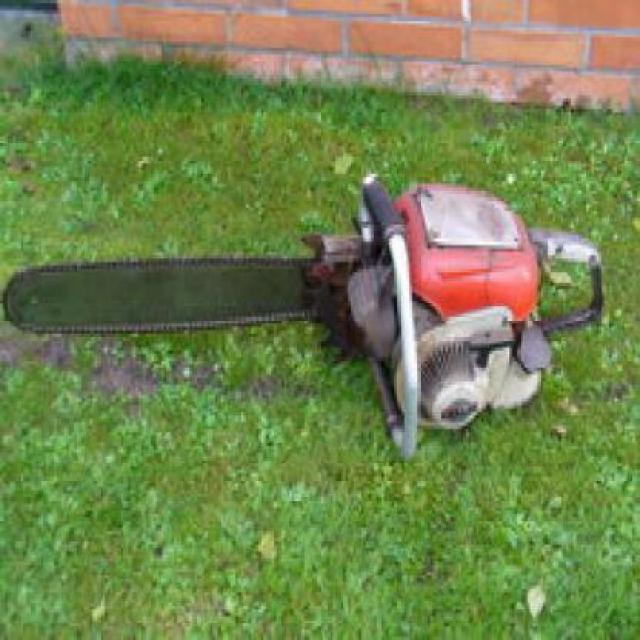Chainsaw: (2, 166, 610, 460)
